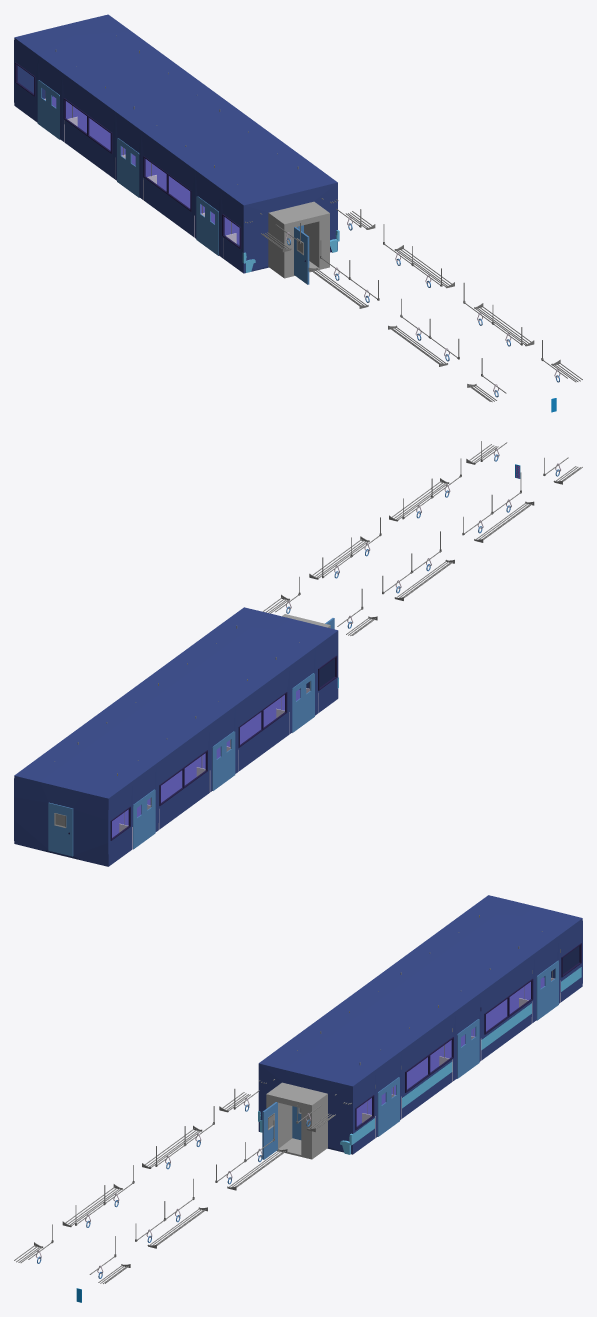
The model's file is Subte.fbx.
3 views of the same model, one above another, from view 1: azimuth 30°, elevation 25°; view 2: azimuth 150°, elevation 25°; view 3: azimuth 330°, elevation 25° (orthographic).
Parts seen in each view (by area): view 1: Vagon, Tubos, DecoInterior; view 2: Vagon, Tubos, DecoInterior, PuertaDescartable; view 3: Vagon, Tubos, DecoInterior.
Part boxes in pixels (x1,y1,x2,y2): Vagon: [14, 14, 337, 284]; Tubos: [260, 209, 582, 402]; DecoInterior: [15, 62, 339, 272]; Vagon: [14, 607, 338, 866]; Tubos: [263, 441, 582, 635]; DecoInterior: [110, 655, 338, 849]; PuertaDescartable: [48, 802, 73, 856]; Vagon: [258, 895, 582, 1159]; Tubos: [14, 1088, 335, 1283]; DecoInterior: [258, 943, 581, 1154].
Size of the model in its own units: 3068 by 2324 by 26281.
